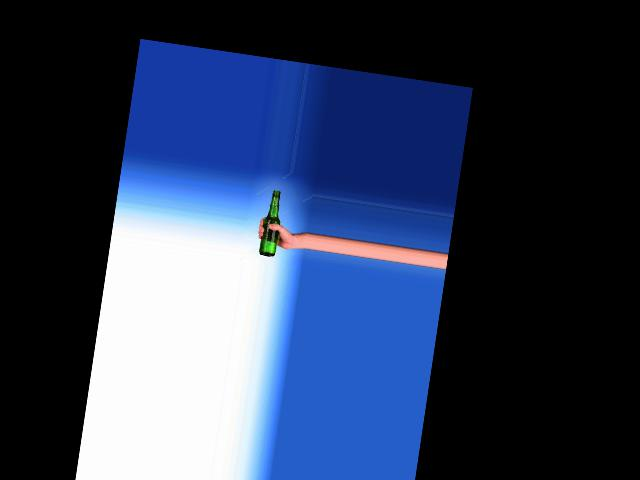beer: (259, 189, 284, 257)
